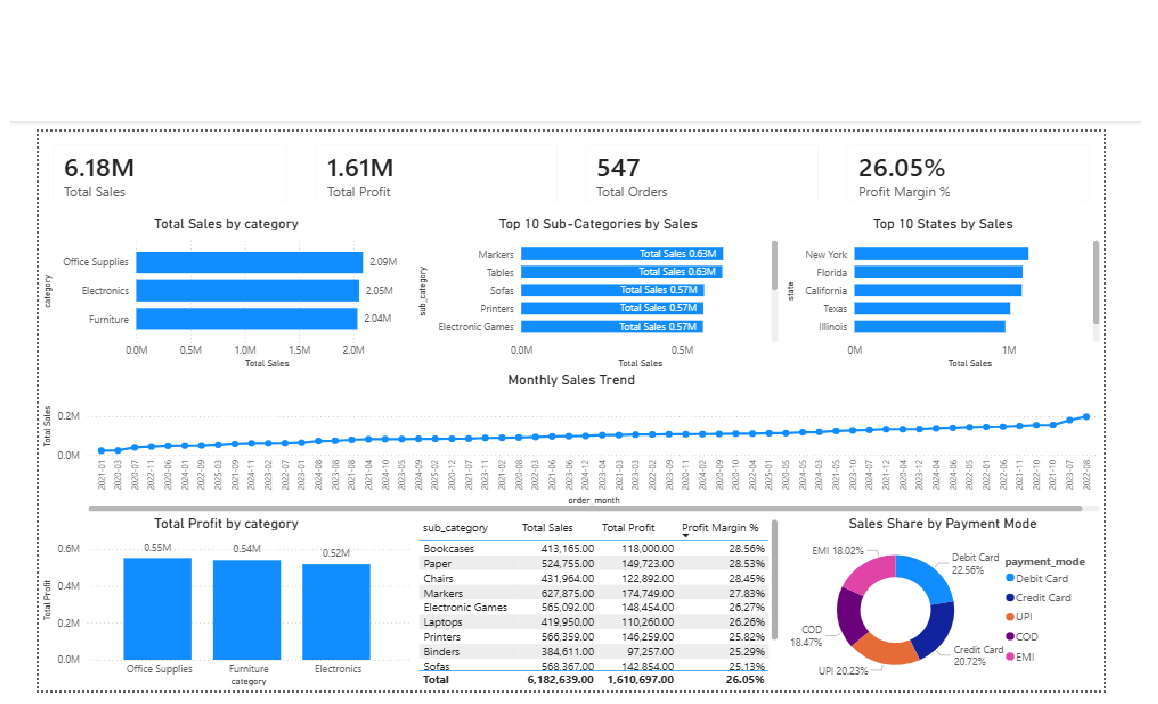

Layout of this report page (visuals, bound fields, positions):
{"tool":"powerbi","page":{"name":"Page 1","canvas":[1280,720],"ordinal":0},"visuals":[{"type":"clusteredBarChart","fields":{"Category":["sales_analysis.category"],"Y":["sales_analysis.Total Sales"]},"box":[0,108,450.7,201.3],"z":0},{"type":"columnChart","fields":{"Category":["sales_analysis.category"],"Y":["sales_analysis.Total Profit"]},"box":[0,494.7,450.7,225.3],"z":1000},{"type":"clusteredBarChart","title":"Top 10 Sub-Categories by Sales","fields":{"Category":["sales_analysis.sub_category"],"Y":["sales_analysis.Total Sales"]},"box":[450.7,108,442.7,201.3],"z":2000},{"type":"tableEx","fields":{"Values":["sales_analysis.sub_category","sales_analysis.Total Sales","sales_analysis.Total Profit","sales_analysis.Profit Margin %"]},"box":[450.7,494.7,442.7,225.3],"z":3000},{"type":"lineChart","title":"Monthly Sales Trend","fields":{"Category":["sales_analysis.order_month"],"Y":["sales_analysis.Total Sales"]},"box":[0,309.3,1280,185.3],"z":4000},{"type":"clusteredBarChart","title":"Top 10 States by Sales","fields":{"Category":["sales_analysis.state"],"Y":["sales_analysis.Total Sales"]},"box":[893.3,108,386.7,201.3],"z":5000},{"type":"donutChart","title":"Sales Share by Payment Mode","fields":{"Category":["sales_analysis.payment_mode"],"Y":["sales_analysis.Total Sales"]},"box":[893.3,494.7,386.7,225.3],"z":6000},{"type":"cardVisual","fields":{"Data":["sales_analysis.Total Sales"]},"box":[0,0,299,107.5],"z":7000},{"type":"cardVisual","fields":{"Data":["sales_analysis.Total Sales"]},"box":[0,0,316,108],"z":8000},{"type":"cardVisual","fields":{"Data":["sales_analysis.Profit Margin %"]},"box":[954.7,0,325.3,108],"z":9000},{"type":"cardVisual","fields":{"Data":["sales_analysis.Total Orders"]},"box":[640,0,314.7,108],"z":10000},{"type":"cardVisual","fields":{"Data":["sales_analysis.Total Profit"]},"box":[316,0,324,108],"z":11000}]}

Visuals, with their boxes on the page's 1280x720 design canvas (x1, y1, x2, y2). These are canvas units, not pixel positions in the 1158x704 screenshot, which may show the page scaled, cropped or inside an application window:
clusteredBarChart - sales_analysis.category x sales_analysis.Total Sales: {"left": 0, "top": 108, "right": 451, "bottom": 309}
columnChart - sales_analysis.category x sales_analysis.Total Profit: {"left": 0, "top": 495, "right": 451, "bottom": 720}
"Top 10 Sub-Categories by Sales" clusteredBarChart: {"left": 451, "top": 108, "right": 893, "bottom": 309}
tableEx - sales_analysis.sub_category x sales_analysis.Total Sales: {"left": 451, "top": 495, "right": 893, "bottom": 720}
"Monthly Sales Trend" lineChart: {"left": 0, "top": 309, "right": 1280, "bottom": 495}
"Top 10 States by Sales" clusteredBarChart: {"left": 893, "top": 108, "right": 1280, "bottom": 309}
"Sales Share by Payment Mode" donutChart: {"left": 893, "top": 495, "right": 1280, "bottom": 720}
cardVisual - sales_analysis.Total Sales: {"left": 0, "top": 0, "right": 299, "bottom": 108}
cardVisual - sales_analysis.Total Sales: {"left": 0, "top": 0, "right": 316, "bottom": 108}
cardVisual - sales_analysis.Profit Margin %: {"left": 955, "top": 0, "right": 1280, "bottom": 108}
cardVisual - sales_analysis.Total Orders: {"left": 640, "top": 0, "right": 955, "bottom": 108}
cardVisual - sales_analysis.Total Profit: {"left": 316, "top": 0, "right": 640, "bottom": 108}
